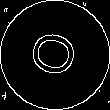O_E: (24, 27, 86, 83)
